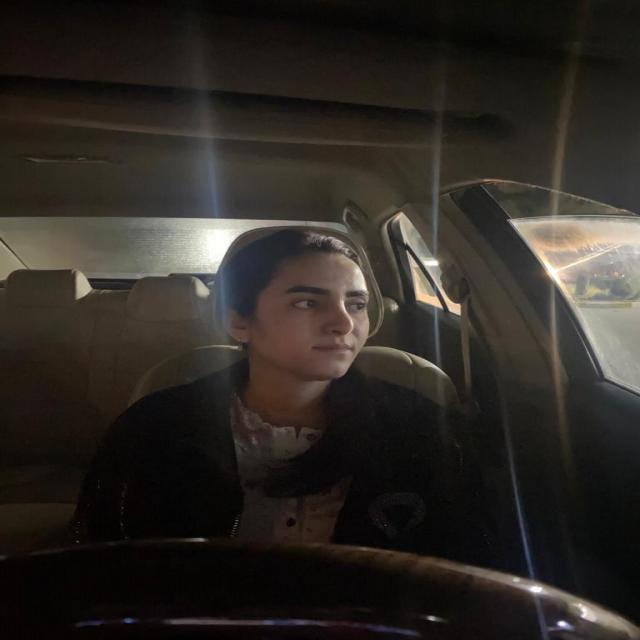person: (207, 235, 422, 398)
